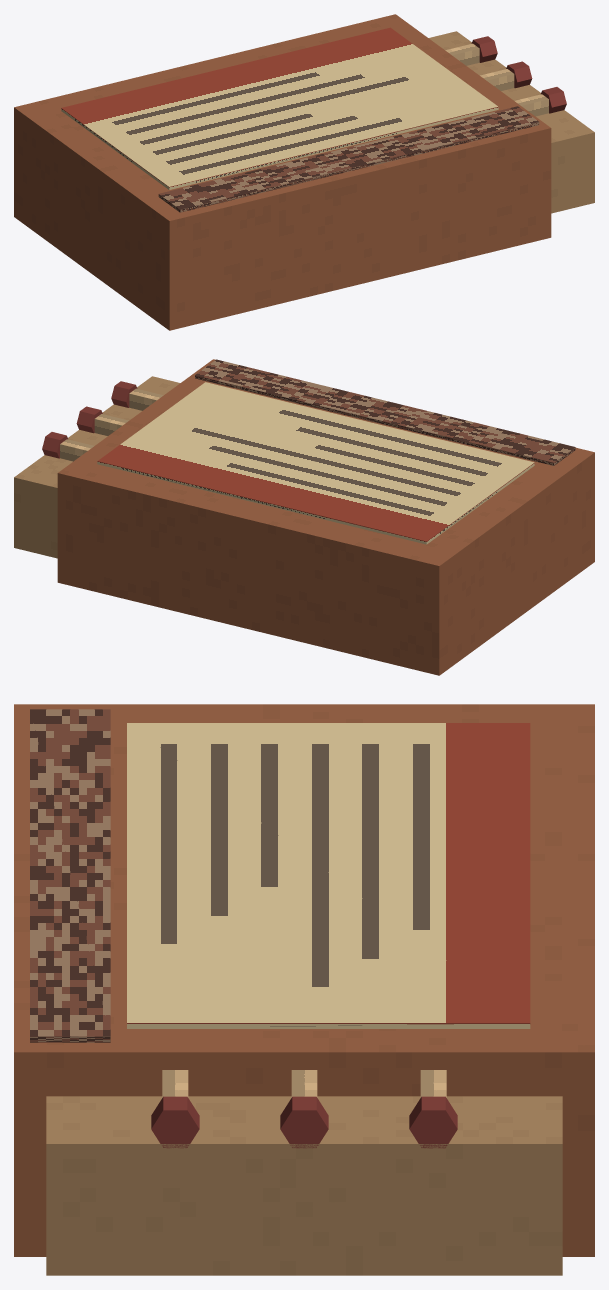
Rendered from ref_matches.glb.
The picture shows the model from 3 angles, top to bottom: view 1: azimuth 30°, elevation 25°; view 2: azimuth 150°, elevation 25°; view 3: azimuth 270°, elevation 25°; orthographic projection. The views are drawn at different scales.
Parts seen in each view (by area): view 1: block_cardboard sleeve, block_printed cover, block_striking strip, block_sliding drawer, block_match 0, block_match -0.008, block_match 0.008, block_match tip -0.008, block_match tip 0, block_match tip 0.008; view 2: block_cardboard sleeve, block_printed cover, block_striking strip, block_sliding drawer, block_match 0, block_match 0.008, block_match -0.008, block_match tip 0.008, block_match tip 0, block_match tip -0.008; view 3: block_printed cover, block_sliding drawer, block_cardboard sleeve, block_striking strip, block_match tip -0.008, block_match tip 0, block_match tip 0.008, block_match -0.008, block_match 0, block_match 0.008.
Boxes of the visible parts, x1,y1,x2,y2 form: block_cardboard sleeve: (14,14,551,330); block_printed cover: (61,27,498,189); block_striking strip: (158,106,539,212); block_sliding drawer: (428,31,594,213); block_match 0: (480,69,514,90); block_match -0.008: (445,43,479,65); block_match 0.008: (515,94,548,116); block_match tip -0.008: (471,36,497,62); block_match tip 0: (506,61,532,88); block_match tip 0.008: (541,87,566,113); block_cardboard sleeve: (57,359,594,675); block_printed cover: (97,382,534,544); block_striking strip: (195,359,575,465); block_sliding drawer: (14,376,180,558); block_match 0: (94,414,128,435); block_match 0.008: (129,388,163,410); block_match -0.008: (60,439,93,461); block_match tip 0.008: (111,381,137,407); block_match tip 0: (76,406,102,433); block_match tip -0.008: (42,432,67,458); block_printed cover: (127,723,530,1028); block_sliding drawer: (46,1096,562,1275); block_cardboard sleeve: (14,704,594,1256); block_striking strip: (30,709,110,1042); block_match tip -0.008: (409,1096,457,1148); block_match tip 0: (280,1096,328,1148); block_match tip 0.008: (151,1096,199,1148); block_match -0.008: (420,1070,446,1097); block_match 0: (291,1070,317,1097); block_match 0.008: (162,1070,188,1097).
Bounding box in the file's own units: 0.058 × 0.0146 × 0.036.
1 material, 1 textured.
